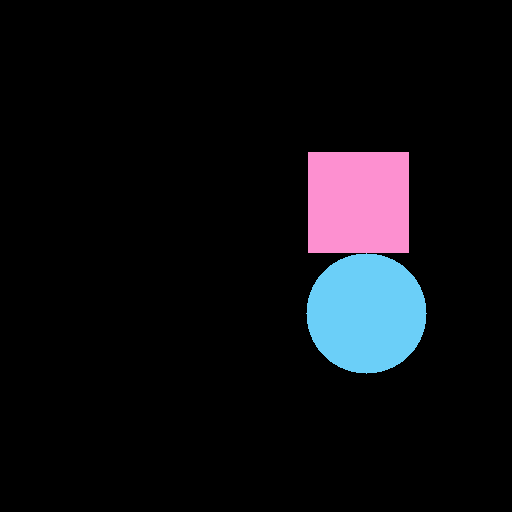circle: (308, 152, 426, 369)
